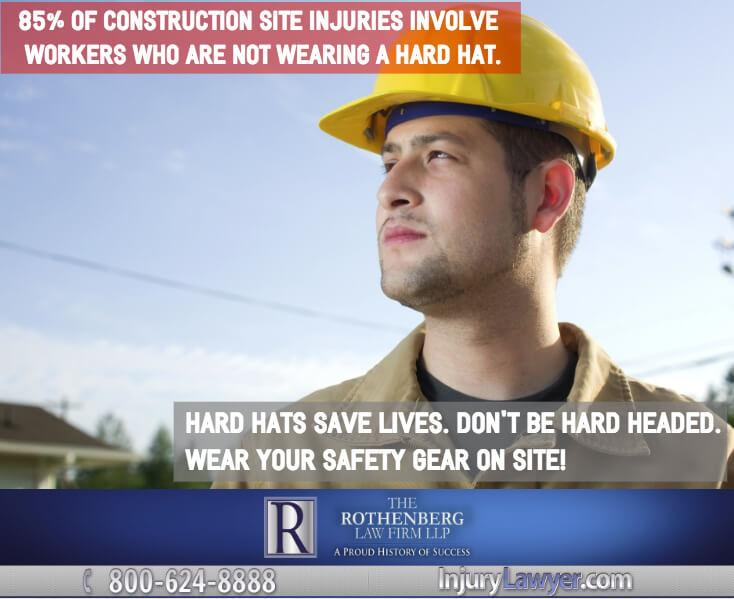helmet: (316, 9, 617, 180)
